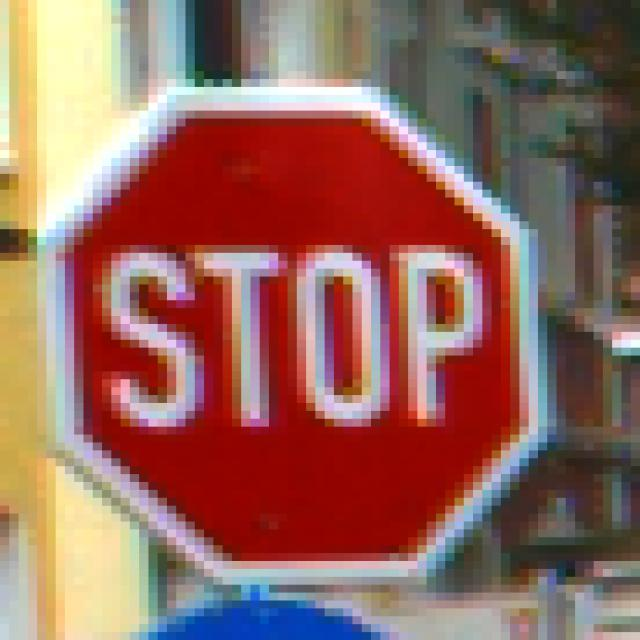STOP: (57, 64, 585, 586)
